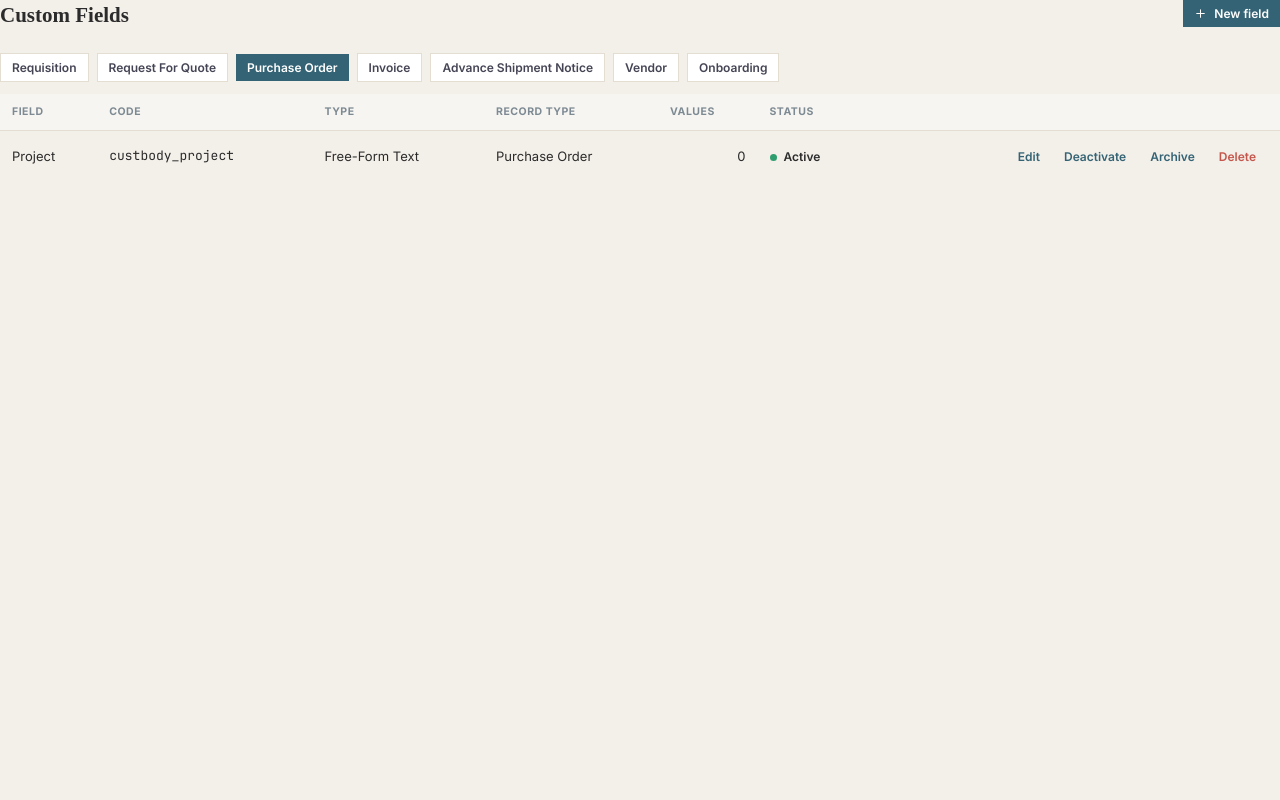
Test: AdminCustomFields — CF-FIX3 three-tier lifecycle dialog › Delete opens the IMPACT REPORT: a mandatory form placement red-flags and blocks the delete
Click the button with aria-label "Delete Project" at (1237,156), box [1207,142,1268,171]
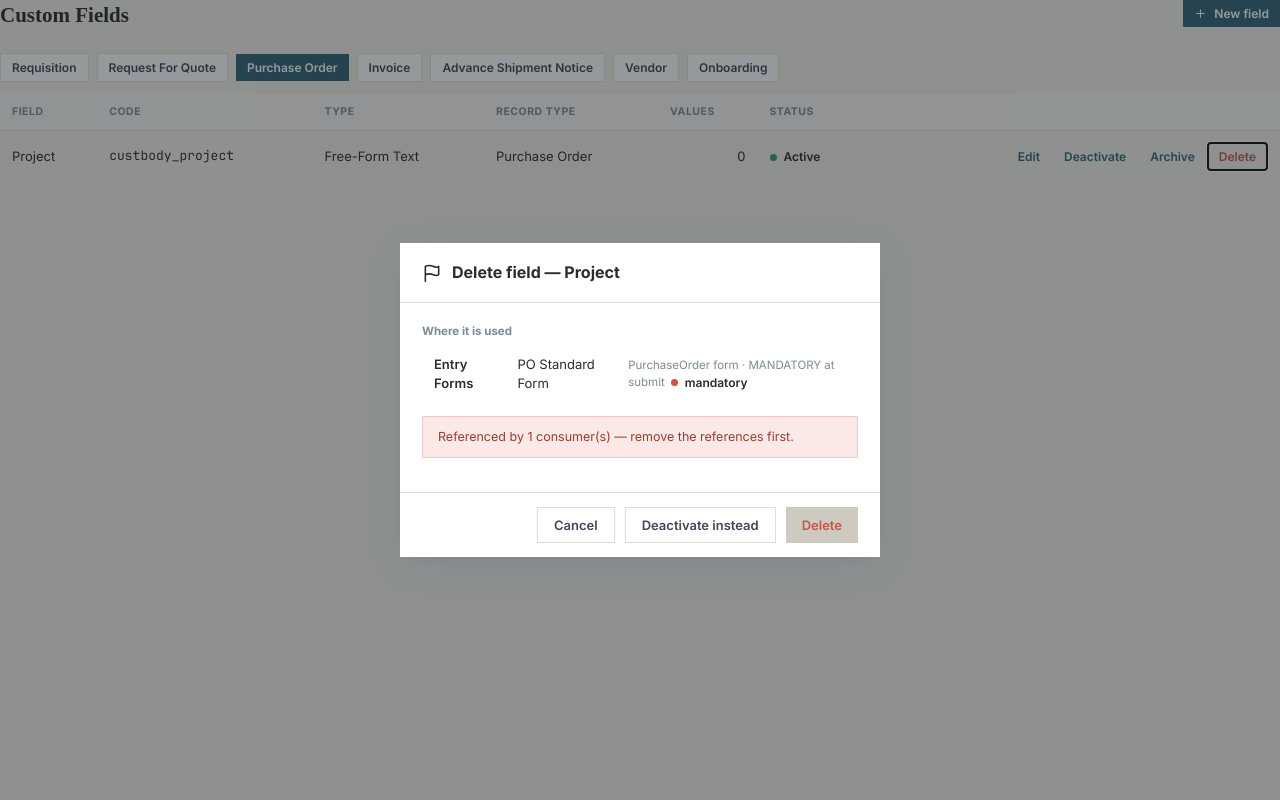
Now the text "PO Standard Form" is shown, box [505,344,616,404]
Now the text "mandatory" is shown, box [671,374,748,391]
Now the text "Referenced by 1 consumer(s) — remove the references first." is shown, box [422,416,858,458]
